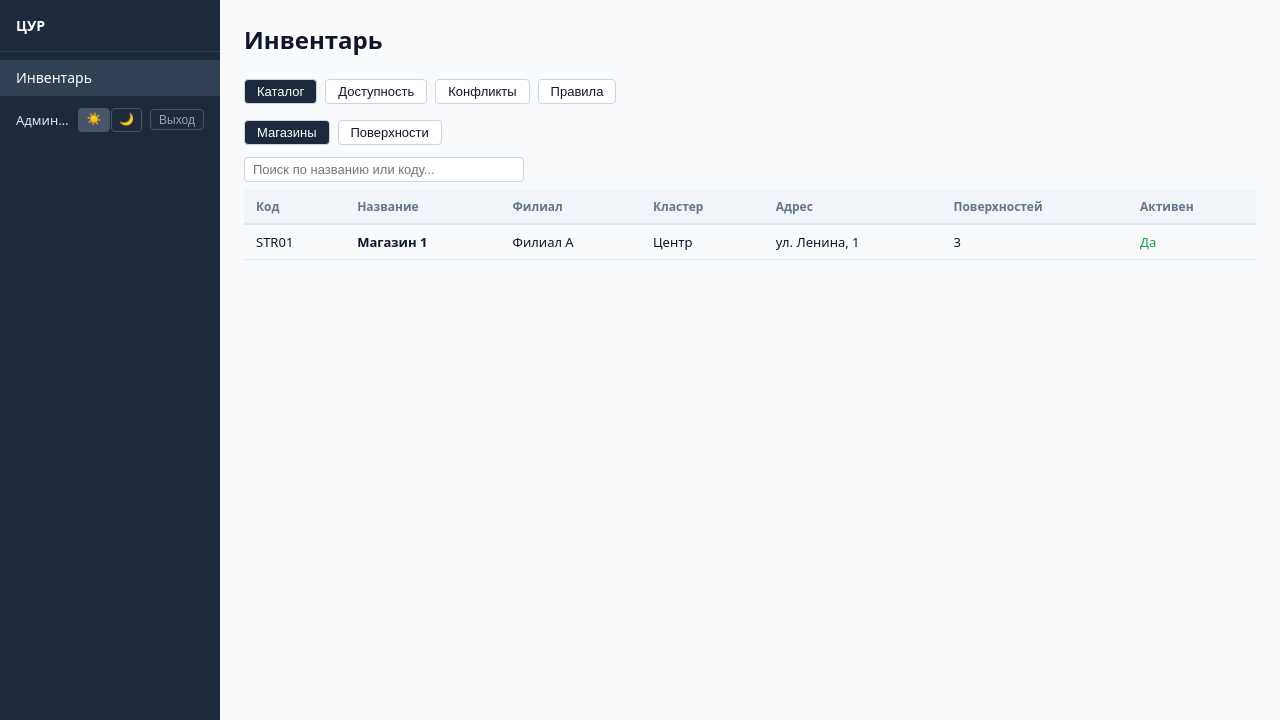
Test case: InventoryPage — S-081 tabs › switches to conflicts tab on click
Click the button "Конфликты" at point(482, 92), box [435,79,530,104]
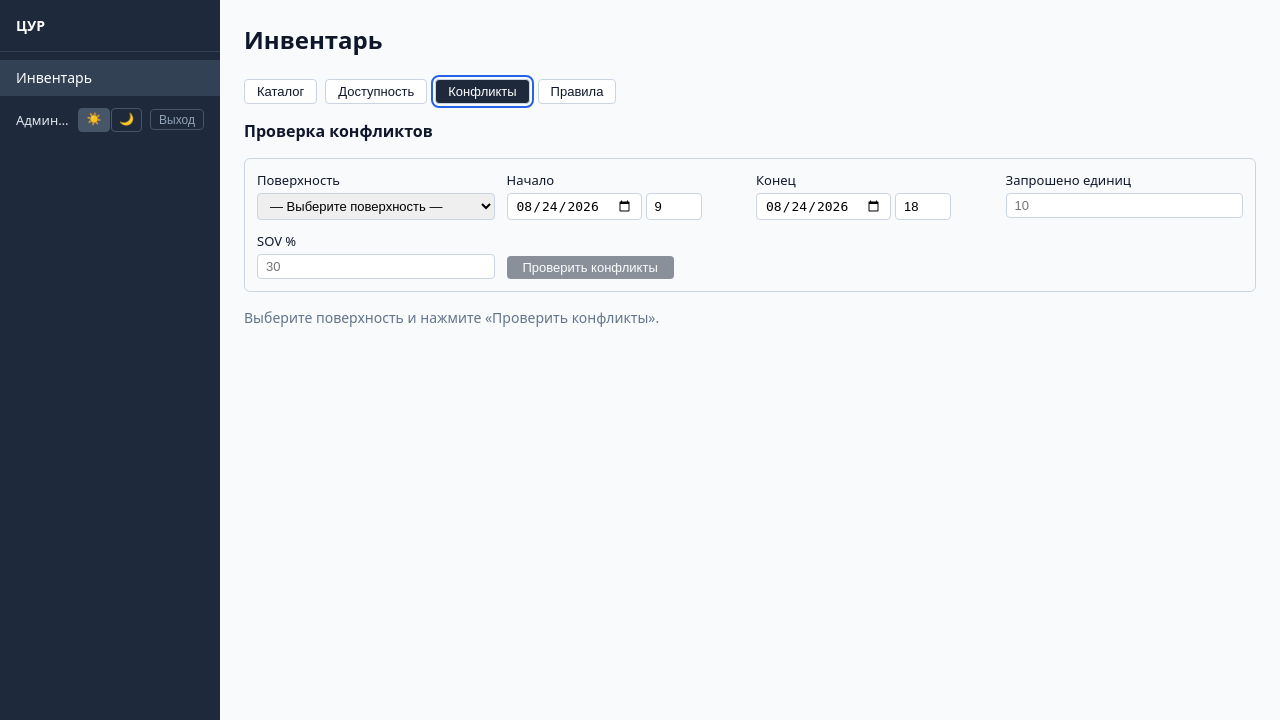
Expected: the heading "Проверка конфликтов" is shown, [244,120,433,142]
